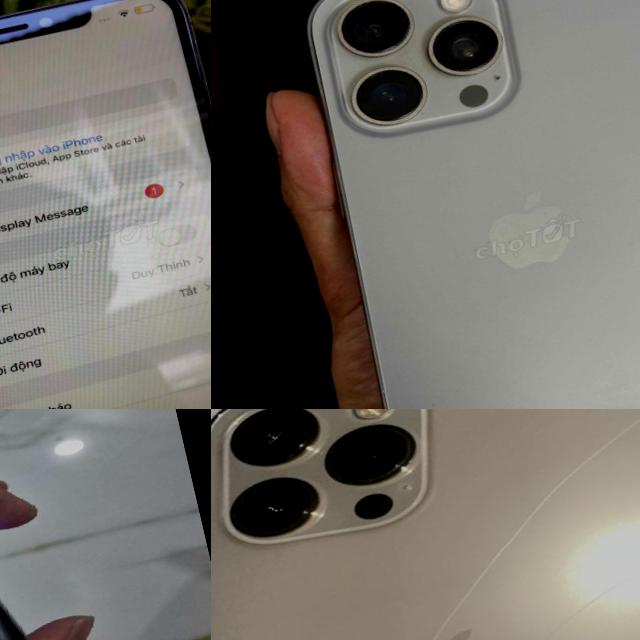physical_damage: (443, 510, 574, 604), (516, 442, 620, 531), (389, 583, 515, 640), (582, 409, 640, 466)
